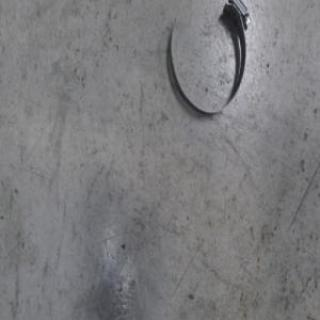AdjustableClamptrack_idkeyframe: (169, 0, 253, 116)
